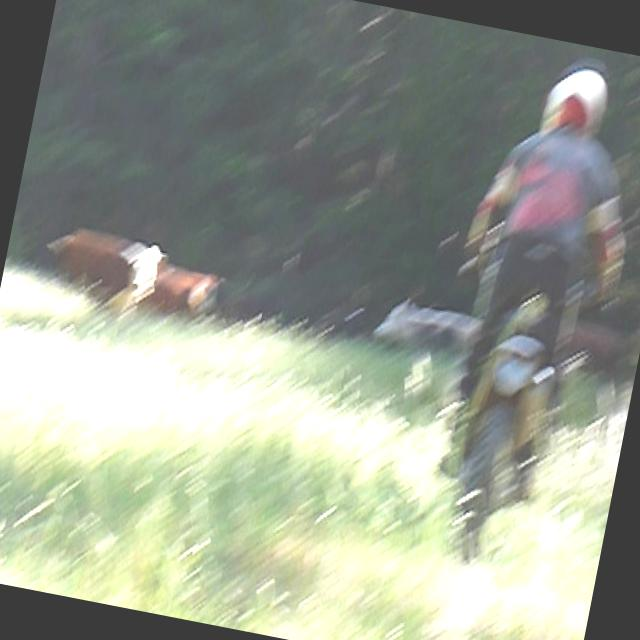Vehicle: (436, 234, 581, 586)
